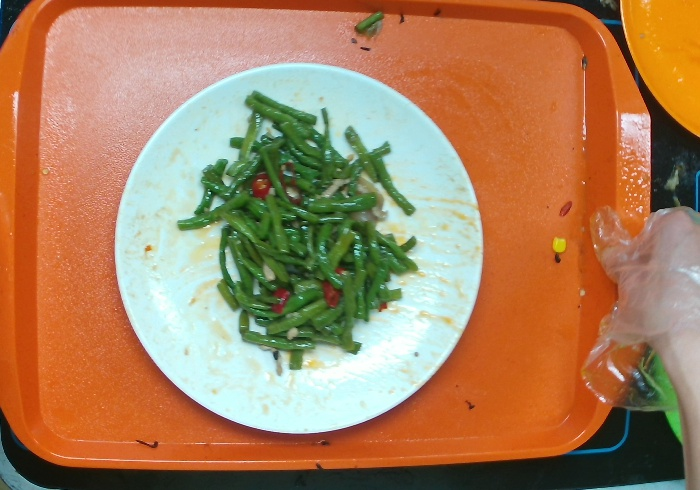HZYJPL-Bai_Se_Yuan_Pan: (114, 62, 483, 438)
